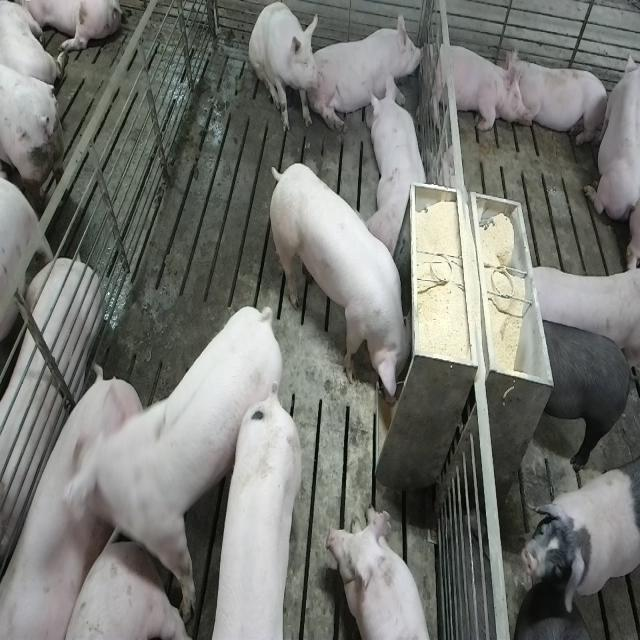Feeding: (272, 161, 420, 409)
Lateral_lying: (0, 364, 140, 640), (0, 258, 102, 584)
Sitting: (249, 2, 322, 136)
Standing: (71, 294, 284, 630), (216, 380, 305, 636), (518, 468, 638, 617), (535, 314, 636, 466), (520, 260, 637, 376), (0, 39, 63, 193)
Sternal_lying: (333, 503, 437, 640), (312, 8, 425, 134), (369, 75, 431, 260), (509, 50, 611, 149), (584, 42, 637, 225), (424, 36, 521, 135)
